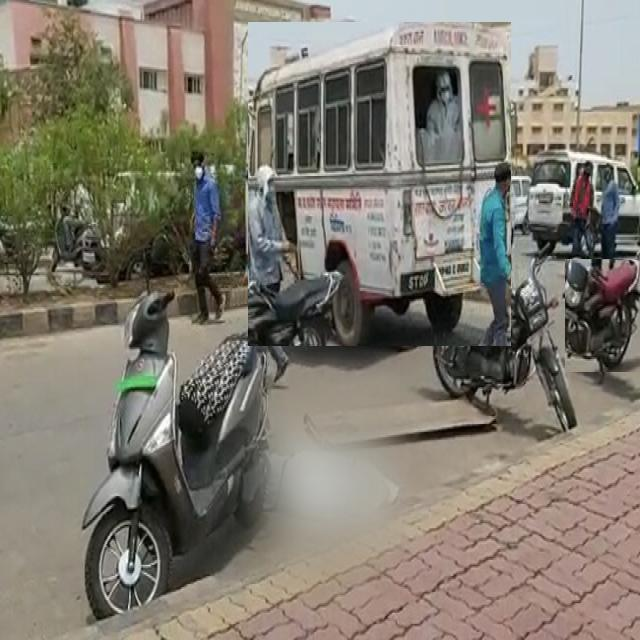bus: (248, 23, 511, 346)
car: (529, 152, 640, 245)
motorcycle: (82, 295, 268, 616), (420, 252, 576, 430), (565, 260, 640, 372)
